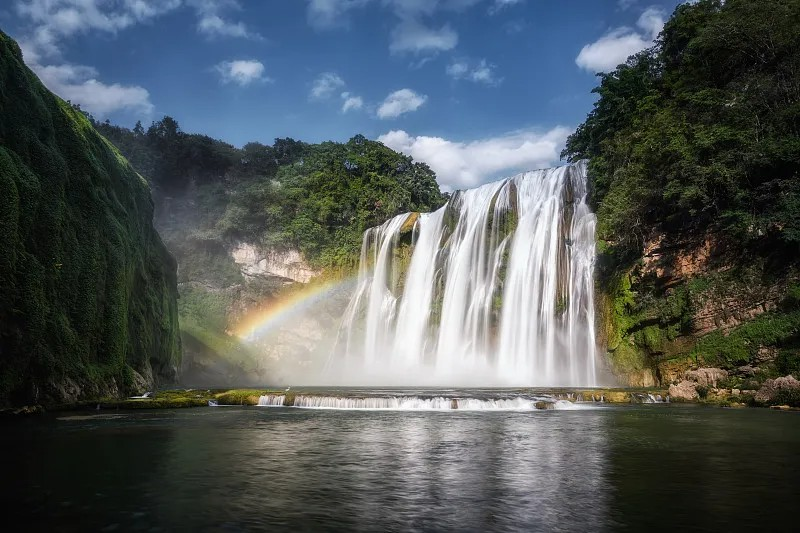Huangguoshu: (349, 164, 598, 390)
